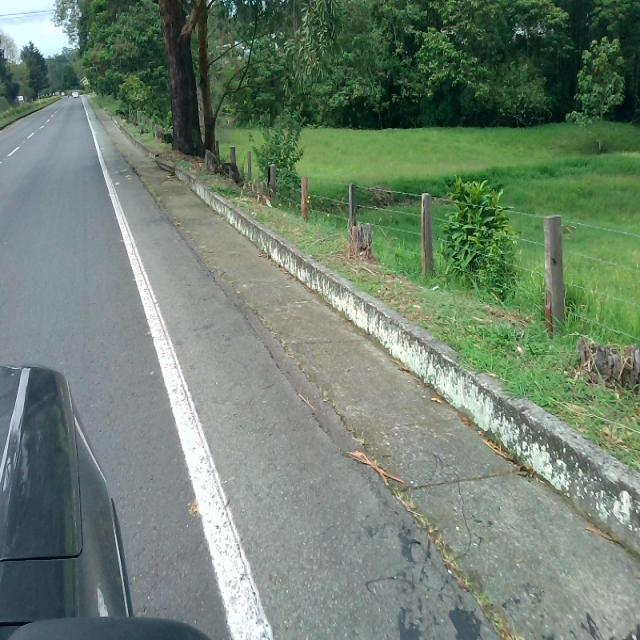DITCH: (81, 91, 638, 638)
